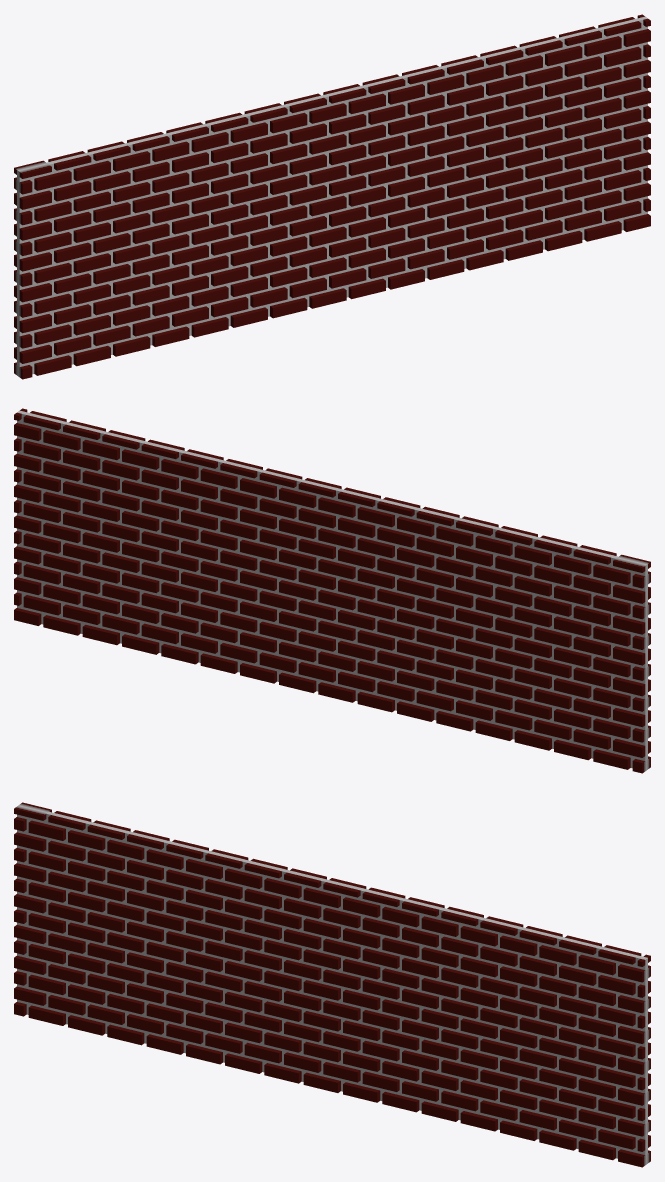
The model's file is Wall.dae.
3 renders of one model, top to bottom at view 1: azimuth 30°, elevation 25°; view 2: azimuth 150°, elevation 25°; view 3: azimuth 330°, elevation 25°, orthographic.
Parts seen in each view (by area): view 1: Matrix; view 2: Matrix; view 3: Matrix.
Part boxes in pixels (box(x1,y1,x2,y2)): Matrix: box(14, 14, 650, 379); Matrix: box(14, 408, 650, 773); Matrix: box(14, 802, 650, 1167).
Bounding box in the file's own units: 128 × 40 × 3.
1 material, 1 textured.
